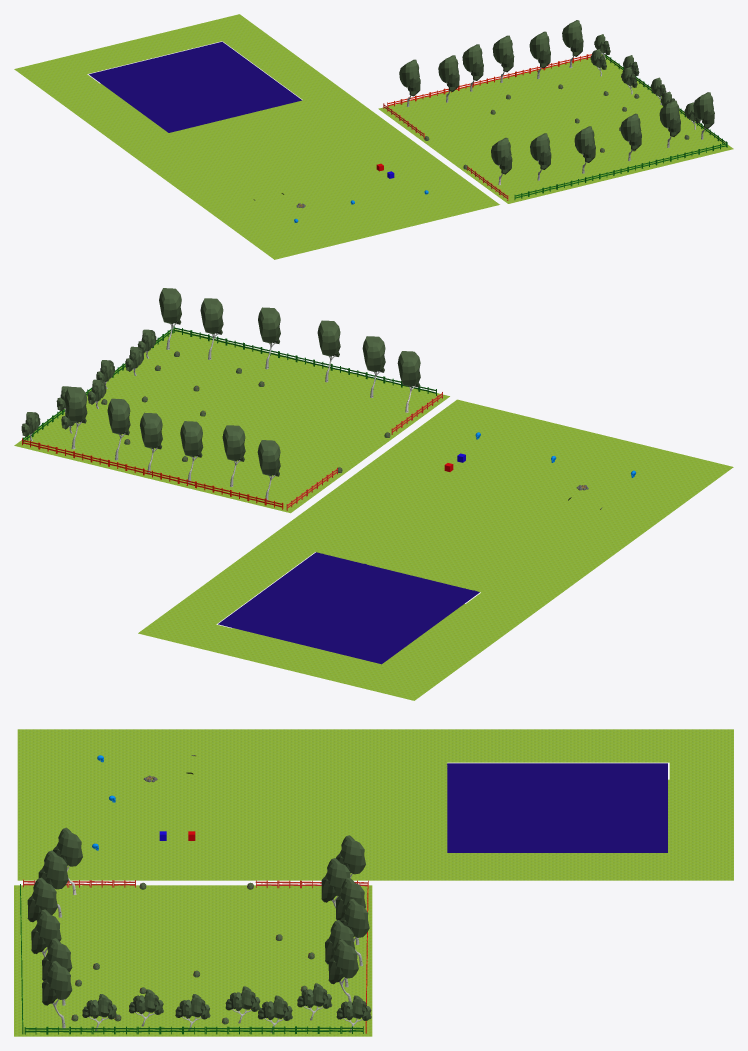
The picture shows the model from 3 angles, top to bottom: view 1: azimuth 30°, elevation 25°; view 2: azimuth 150°, elevation 25°; view 3: azimuth 270°, elevation 25°; orthographic projection. The views are drawn at different scales.
Parts seen in each view (by area): view 1: ground, forest, lakeGround, lake, Fence.001, Fence, BirchTree_2_Cube.009, BirchTree_2_Cube.000, BirchTree_2_Cube.007, BirchTree_2_Cube.003, BirchTree_2_Cube.011, BirchTree_2_Cube.001 (+6 smaller); view 2: ground, forest, lakeGround, lake, Fence, Fence.001, BirchTree_2_Cube.006, BirchTree_2_Cube.005, BirchTree_2_Cube.009, BirchTree_2_Cube.001, BirchTree_2_Cube.008, BirchTree_2_Cube.011 (+6 smaller); view 3: ground, forest, lakeGround, lake, Fence.002, BirchTree_2_Cube.003, BirchTree_2_Cube.009, BirchTree_2_Cube.007, BirchTree_2_Cube.005, BirchTree_2_Cube.011, BirchTree_2_Cube.001, BirchTree_2_Cube.012 (+12 smaller).
Part boxes in pixels (bbox=[...]): ground: bbox=[144, 109, 499, 259]; forest: bbox=[378, 54, 733, 203]; lakeGround: bbox=[14, 14, 369, 164]; lake: bbox=[89, 41, 302, 132]; Fence.001: bbox=[514, 142, 727, 199]; Fence: bbox=[387, 54, 591, 106]; BirchTree_2_Cube.009: bbox=[562, 20, 583, 68]; BirchTree_2_Cube.000: bbox=[399, 59, 420, 106]; BirchTree_2_Cube.007: bbox=[620, 113, 641, 161]; BirchTree_2_Cube.003: bbox=[693, 92, 714, 139]; BirchTree_2_Cube.011: bbox=[438, 55, 459, 102]; BirchTree_2_Cube.001: bbox=[530, 133, 551, 180]; ground: bbox=[298, 399, 733, 583]; forest: bbox=[14, 329, 449, 513]; lakeGround: bbox=[138, 516, 573, 700]; lake: bbox=[218, 552, 479, 664]; Fence: bbox=[22, 438, 283, 509]; Fence.001: bbox=[173, 326, 436, 395]; BirchTree_2_Cube.006: bbox=[107, 398, 130, 460]; BirchTree_2_Cube.005: bbox=[317, 320, 340, 382]; BirchTree_2_Cube.009: bbox=[64, 387, 87, 449]; BirchTree_2_Cube.001: bbox=[362, 336, 385, 397]; BirchTree_2_Cube.008: bbox=[200, 298, 223, 359]; BirchTree_2_Cube.011: bbox=[222, 425, 245, 486]; ground: bbox=[17, 729, 375, 880]; forest: bbox=[14, 885, 372, 1036]; lakeGround: bbox=[375, 729, 733, 880]; lake: bbox=[447, 763, 667, 852]; Fence.002: bbox=[24, 1026, 363, 1034]; BirchTree_2_Cube.003: bbox=[42, 961, 72, 1028]; BirchTree_2_Cube.009: bbox=[328, 939, 358, 1001]; BirchTree_2_Cube.007: bbox=[31, 909, 61, 957]; BirchTree_2_Cube.005: bbox=[27, 877, 57, 922]; BirchTree_2_Cube.011: bbox=[321, 858, 350, 908]; BirchTree_2_Cube.001: bbox=[38, 850, 68, 917]; BirchTree_2_Cube.012: bbox=[53, 827, 82, 894].
Bounding box in the file's own units: 203 × 26.23 × 201.
166 materials, 3 textured.
